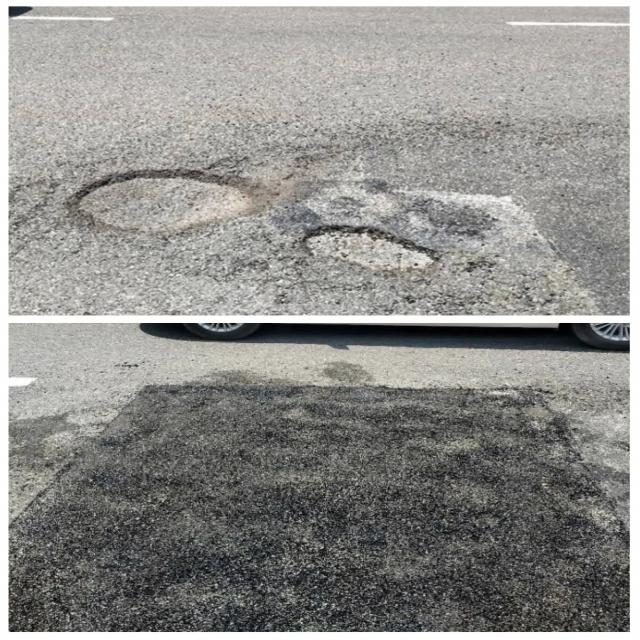Pothole: (52, 172, 275, 232), (299, 223, 443, 277)
